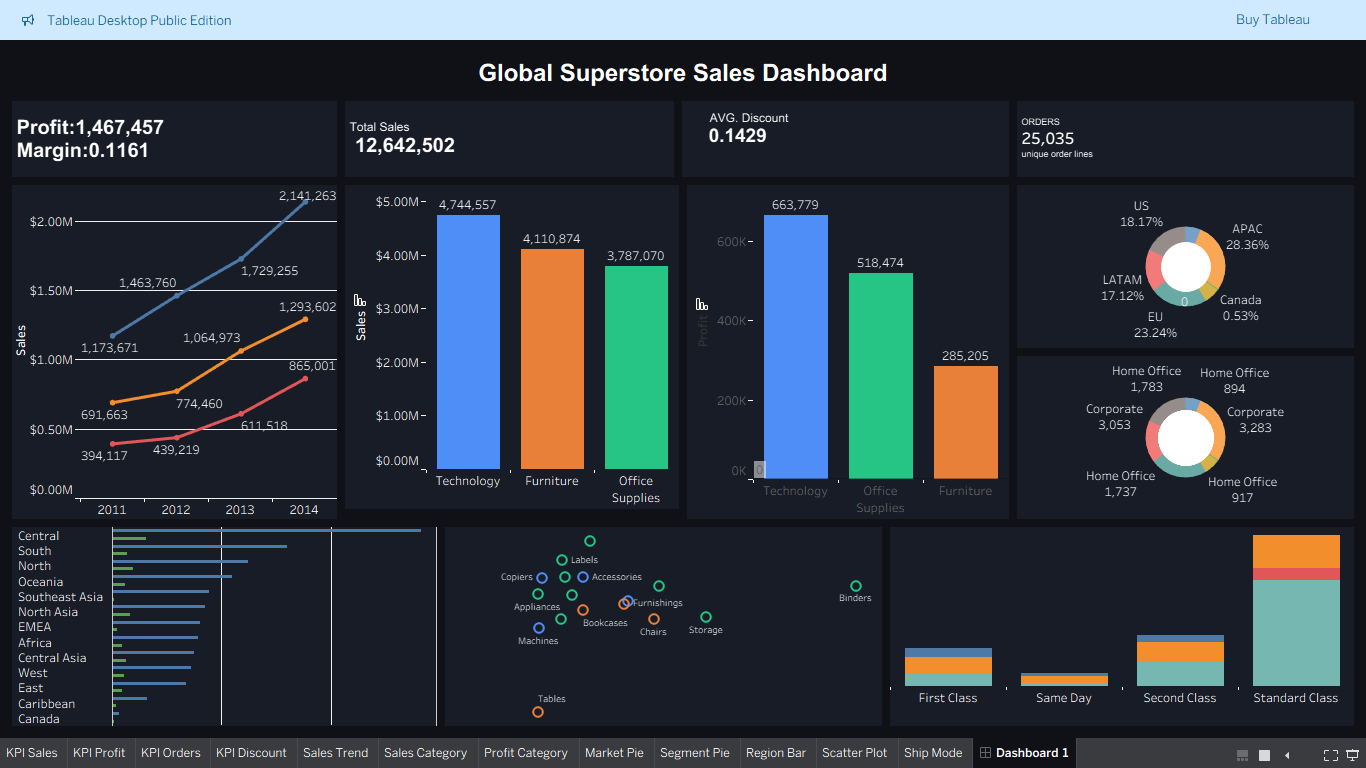

Layout of this report page (visuals, bound fields, positions):
{"tool":"tableau","page":{"name":"Dashboard 1","canvas":[1000,1000],"units":"permille","ordinal":0},"visuals":[{"type":"text","box":[5.9,11.5,988.3,69.9]},{"type":"worksheet","title":"KPI Profit","mark":"Automatic","box":[5.9,81.3,243.8,120.4]},{"type":"worksheet","title":"KPI Sales","mark":"Automatic","box":[249.6,81.3,246.7,120.4]},{"type":"worksheet","title":"KPI Discount","mark":"Automatic","box":[496.3,81.3,245.2,120.4]},{"type":"worksheet","title":"KPI Orders","mark":"Automatic","box":[741.6,81.3,252.6,120.4]},{"type":"worksheet","title":"Sales Trend","mark":"Line","rows":["Sales"],"cols":["Order Date"],"box":[5.9,201.7,243.8,490.1]},{"type":"worksheet","title":"Sales Category","mark":"Automatic","rows":["Sales"],"cols":["Category"],"box":[249.6,201.7,250.1,490.1]},{"type":"worksheet","title":"Profit Category","mark":"Automatic","rows":["Profit"],"cols":["Category"],"box":[499.7,201.7,241.9,490.1]},{"type":"worksheet","title":"Market Pie","mark":"Pie","rows":["Calculation_1095728545239041","Calculation_1095728545267715"],"box":[741.6,201.7,252.6,245.1]},{"type":"worksheet","title":"Segment Pie","mark":"Pie","rows":["Calculation_0394239969087499","Calculation_0394239969112077"],"box":[741.6,446.8,252.6,245.1]},{"type":"worksheet","title":"Region Bar","mark":"Bar","rows":["Region"],"box":[5.9,691.9,317,296.7]},{"type":"worksheet","title":"Scatter Plot","mark":"Automatic","rows":["Calculation_1020411521843201"],"cols":["Discount"],"box":[322.9,691.9,325.8,296.7]},{"type":"worksheet","title":"Ship Mode","mark":"Bar","rows":["Order ID"],"cols":["Ship Mode"],"box":[648.6,691.9,345.5,296.7]}]}

Visuals, with their boxes on the dashboard's canvas, which has no fixed pixel size, in thousandths of its width and height (x1, y1, x2, y2). These are canvas units, not pixel positions in the 1366x768 screenshot, which may show the page scaled, cropped or inside an application window:
text: (left=6, top=12, right=994, bottom=81)
"KPI Profit" worksheet: (left=6, top=81, right=250, bottom=202)
"KPI Sales" worksheet: (left=250, top=81, right=496, bottom=202)
"KPI Discount" worksheet: (left=496, top=81, right=742, bottom=202)
"KPI Orders" worksheet: (left=742, top=81, right=994, bottom=202)
"Sales Trend" worksheet (Line marks): (left=6, top=202, right=250, bottom=692)
"Sales Category" worksheet: (left=250, top=202, right=500, bottom=692)
"Profit Category" worksheet: (left=500, top=202, right=742, bottom=692)
"Market Pie" worksheet (Pie marks): (left=742, top=202, right=994, bottom=447)
"Segment Pie" worksheet (Pie marks): (left=742, top=447, right=994, bottom=692)
"Region Bar" worksheet (Bar marks): (left=6, top=692, right=323, bottom=989)
"Scatter Plot" worksheet: (left=323, top=692, right=649, bottom=989)
"Ship Mode" worksheet (Bar marks): (left=649, top=692, right=994, bottom=989)
